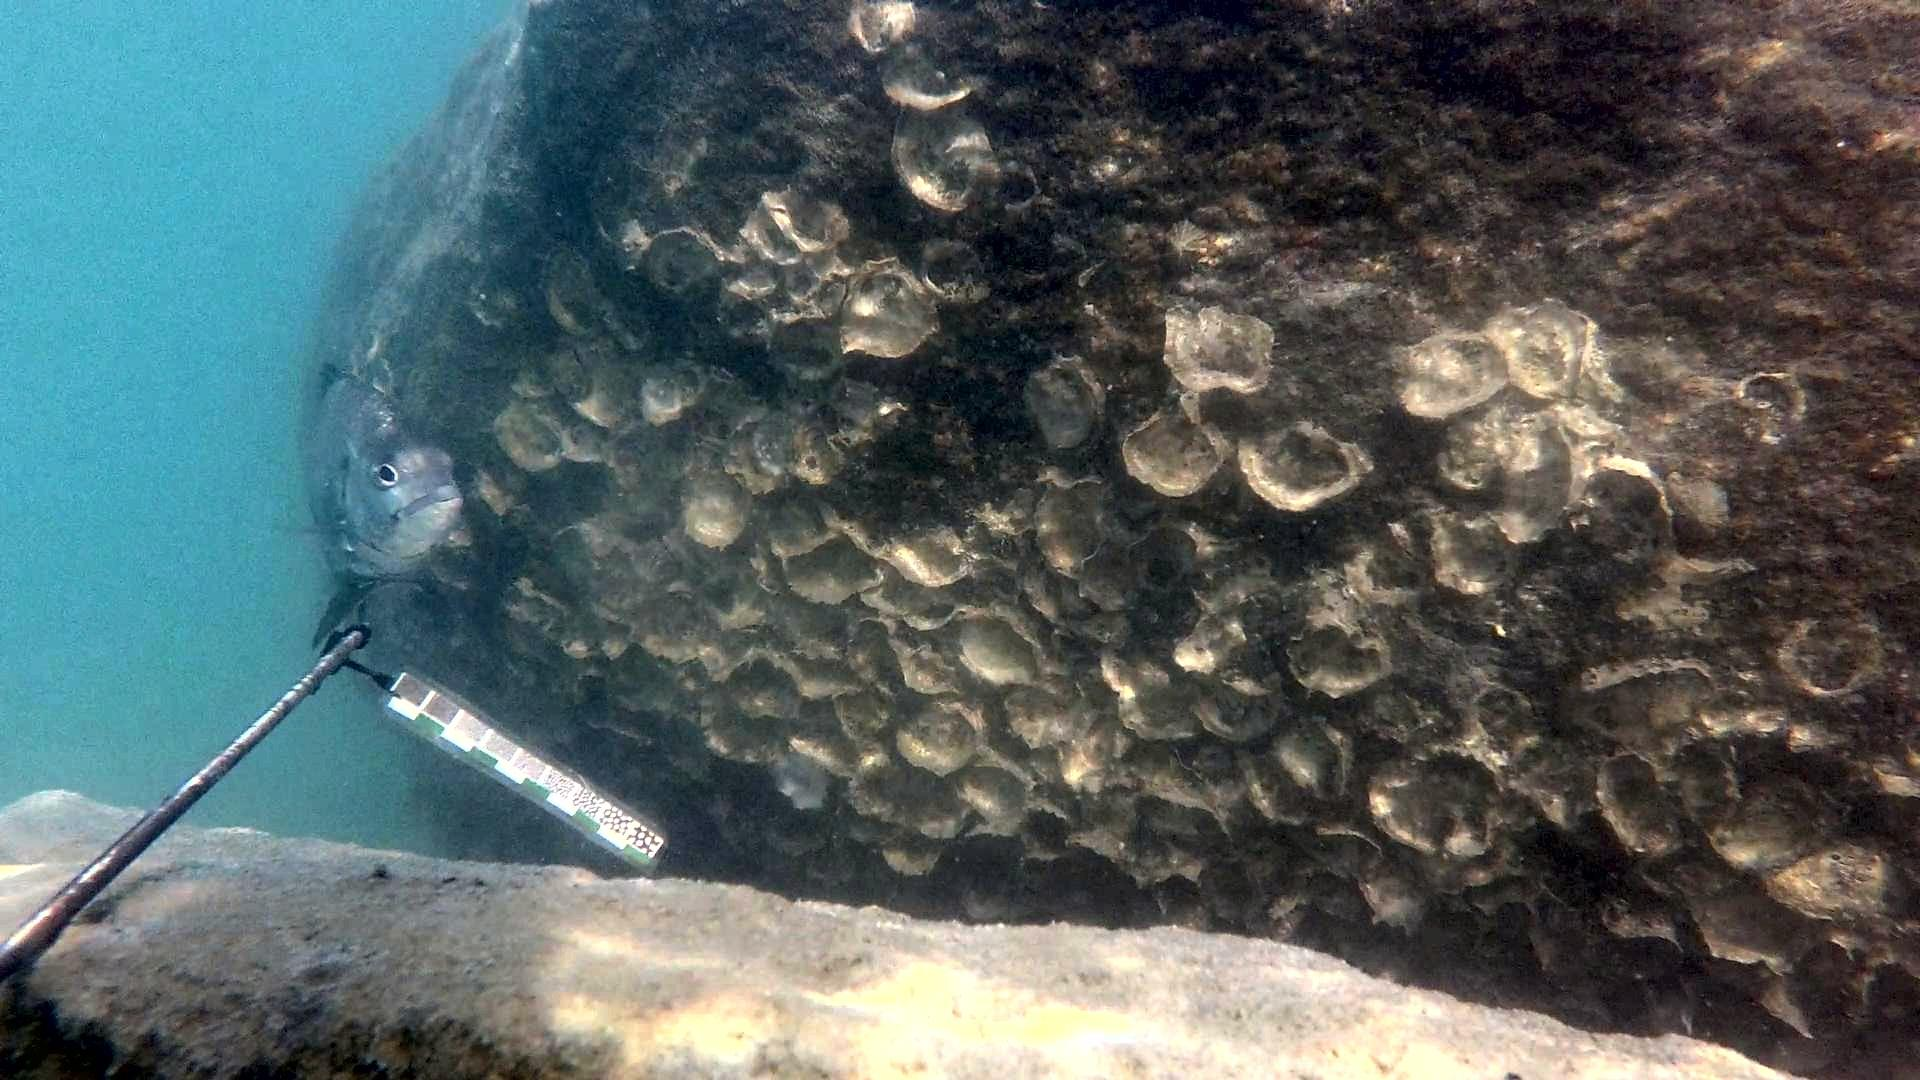acanthopagrus palmaris: (261, 333, 501, 642)
